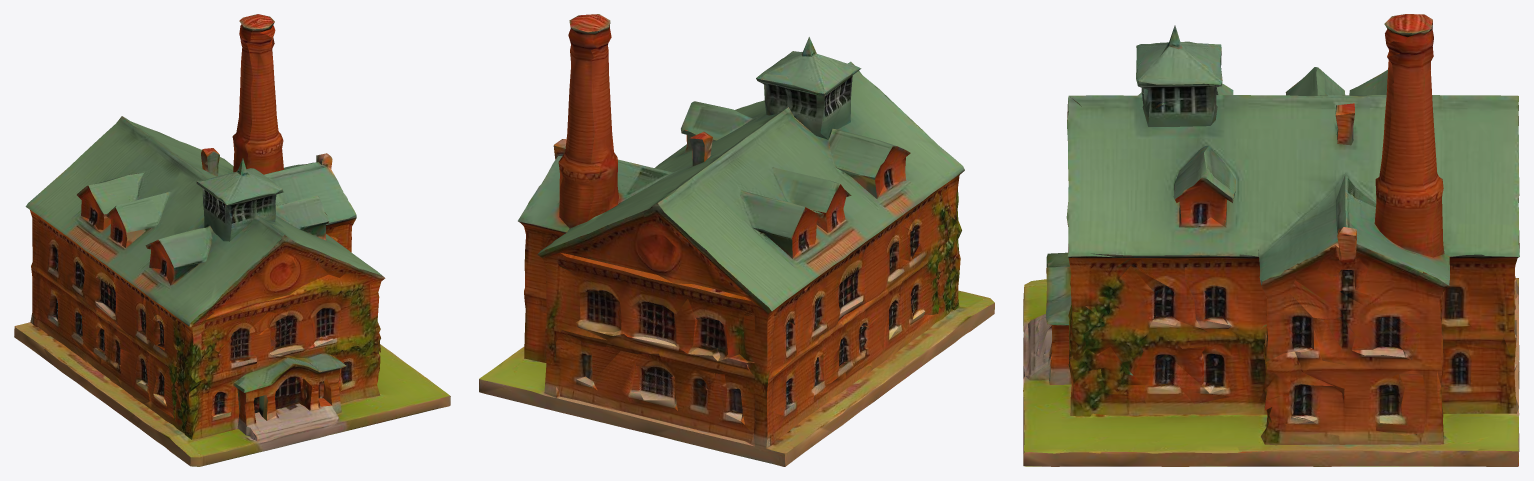
The model's file is sapporo-beer-museum.glb.
3 renders of one model, left to right at view 1: azimuth 30°, elevation 25°; view 2: azimuth 150°, elevation 25°; view 3: azimuth 270°, elevation 25°, orthographic. The views are drawn at different scales.
Visible parts, largest first — view 1: logan-textured.obj; view 2: logan-textured.obj; view 3: logan-textured.obj.
Part boxes in pixels (box(x1,y1,x2,y2)): logan-textured.obj: box(14, 14, 450, 466); logan-textured.obj: box(479, 14, 994, 466); logan-textured.obj: box(1023, 14, 1519, 466).
Bounding box in the file's own units: 0.8289 × 0.9185 × 1.
Materials: 1 (1 with a texture image).
